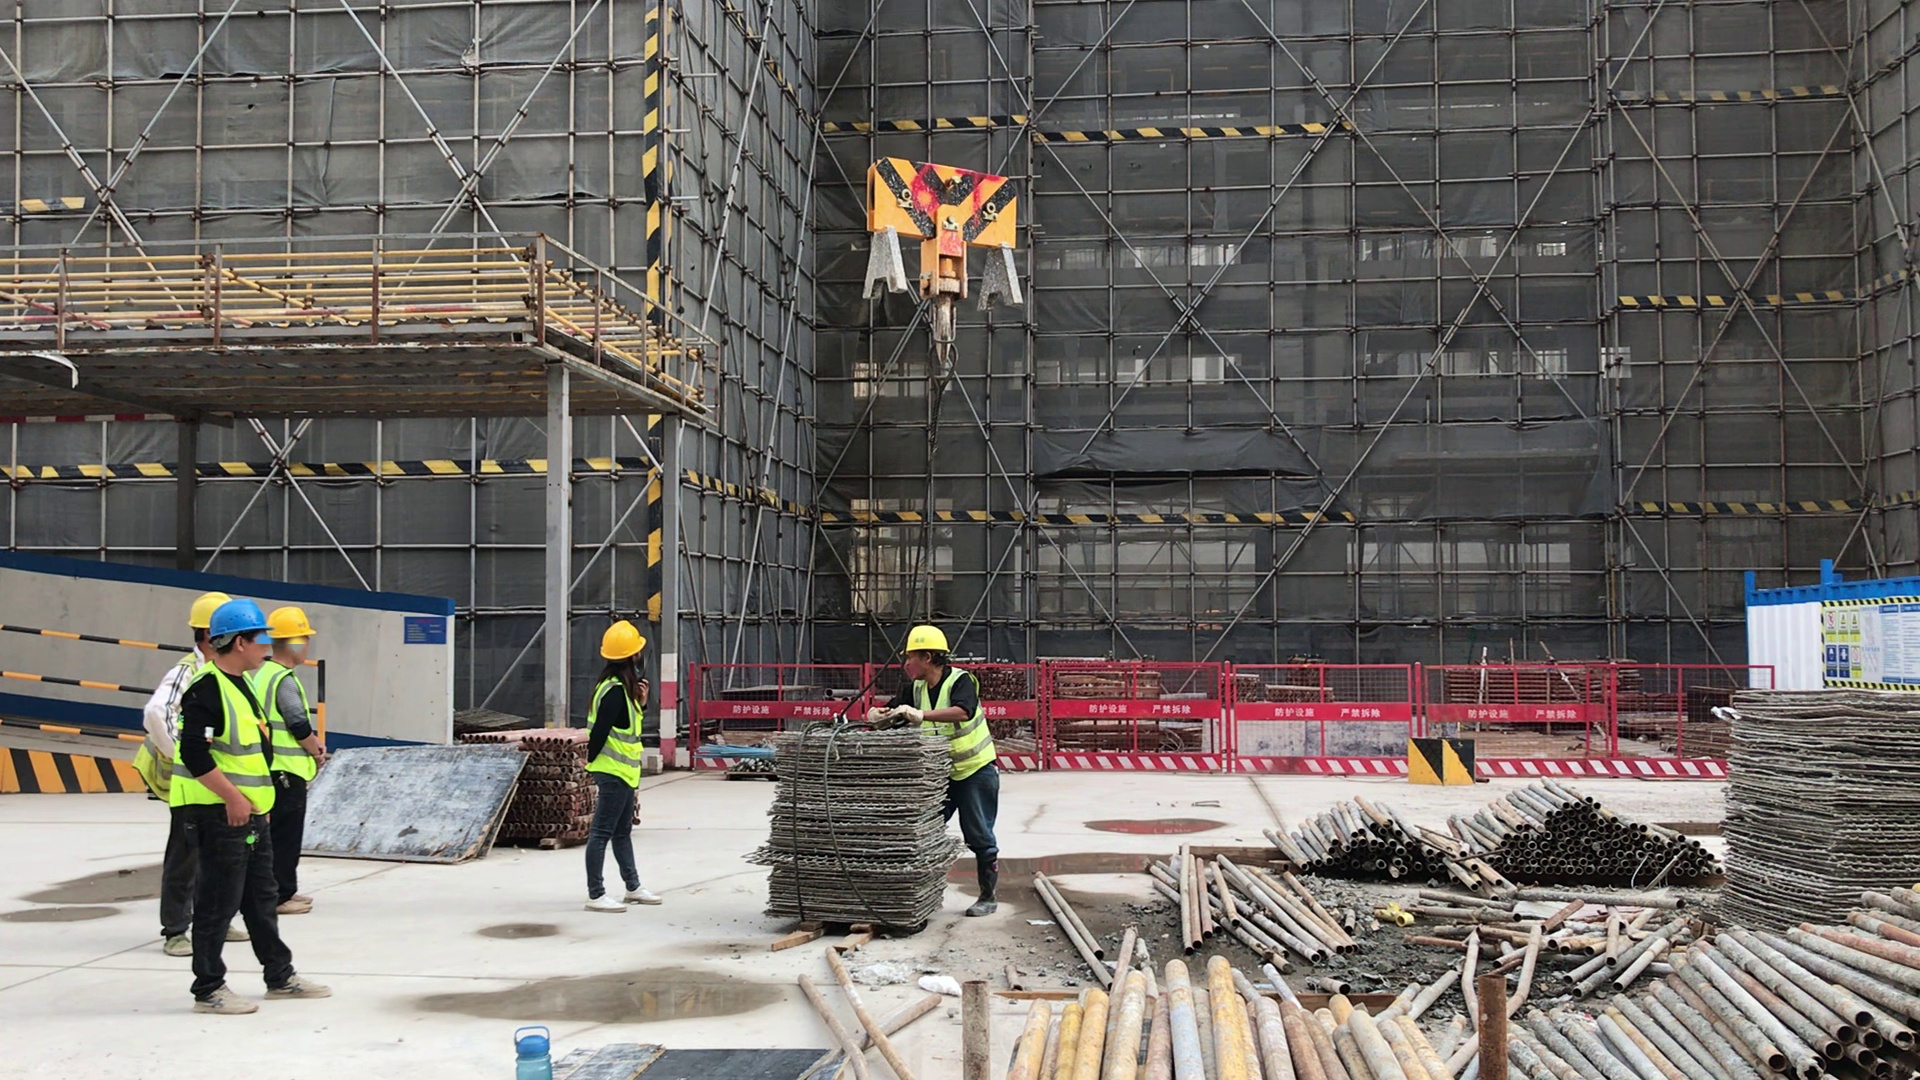fence: (686, 664, 1774, 776)
helmet: (208, 599, 273, 637), (597, 616, 646, 661), (263, 604, 314, 646), (900, 623, 954, 654), (188, 592, 224, 624)
hook: (863, 160, 1027, 373)
person: (182, 608, 333, 1013), (135, 592, 250, 956), (870, 627, 1000, 917), (585, 619, 665, 914), (256, 614, 315, 914)
scaffold: (1725, 695, 1920, 916), (767, 734, 943, 939), (515, 729, 588, 853)
vest: (169, 660, 273, 808), (912, 672, 998, 780), (248, 660, 316, 780), (585, 677, 643, 787)
